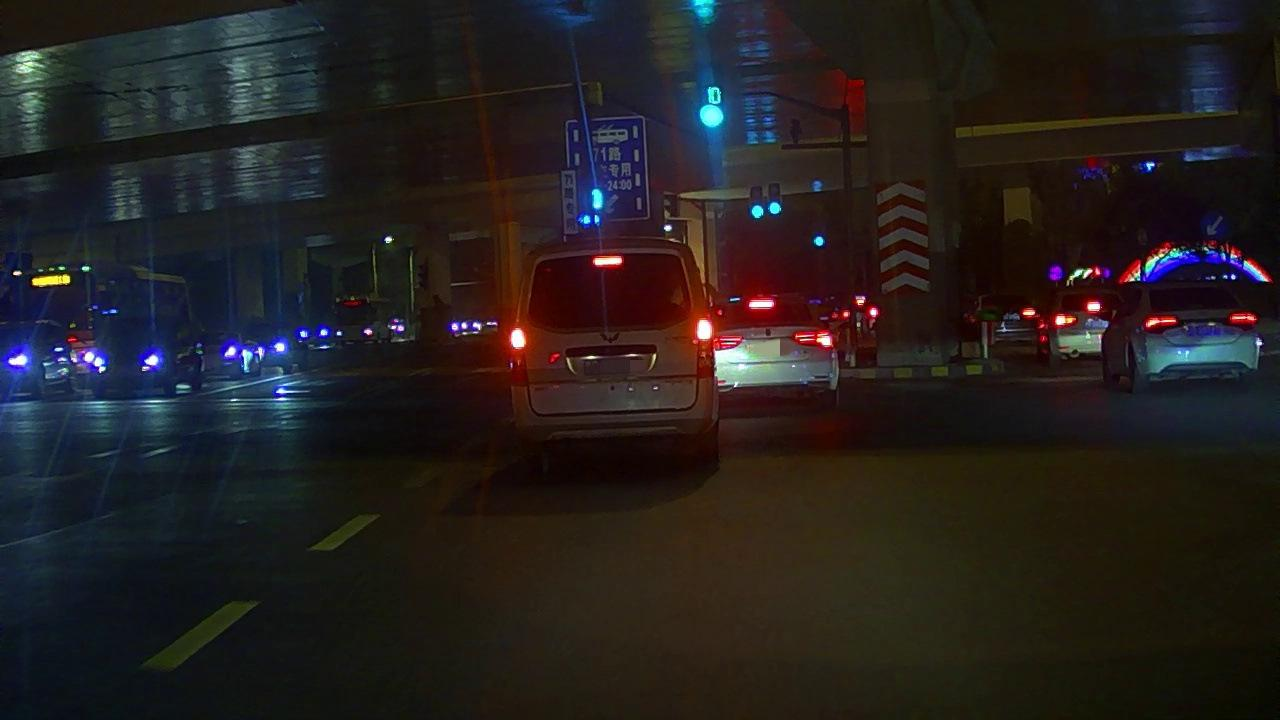traffic_light: (700, 87, 723, 127), (752, 187, 763, 219), (770, 185, 779, 217), (812, 236, 823, 247)
